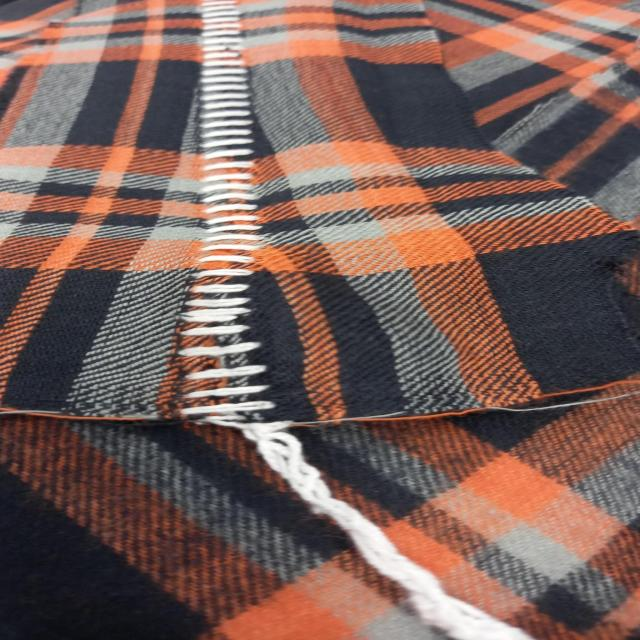gray stitch: (180, 3, 278, 444)
